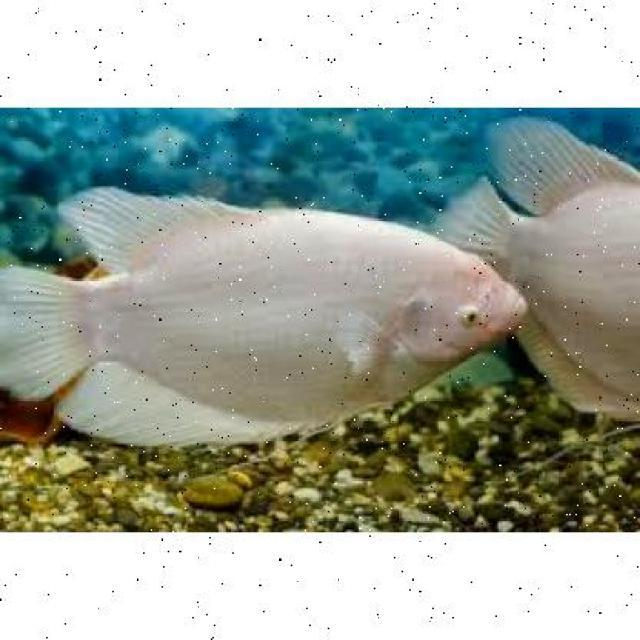gurame: (2, 205, 527, 438)
